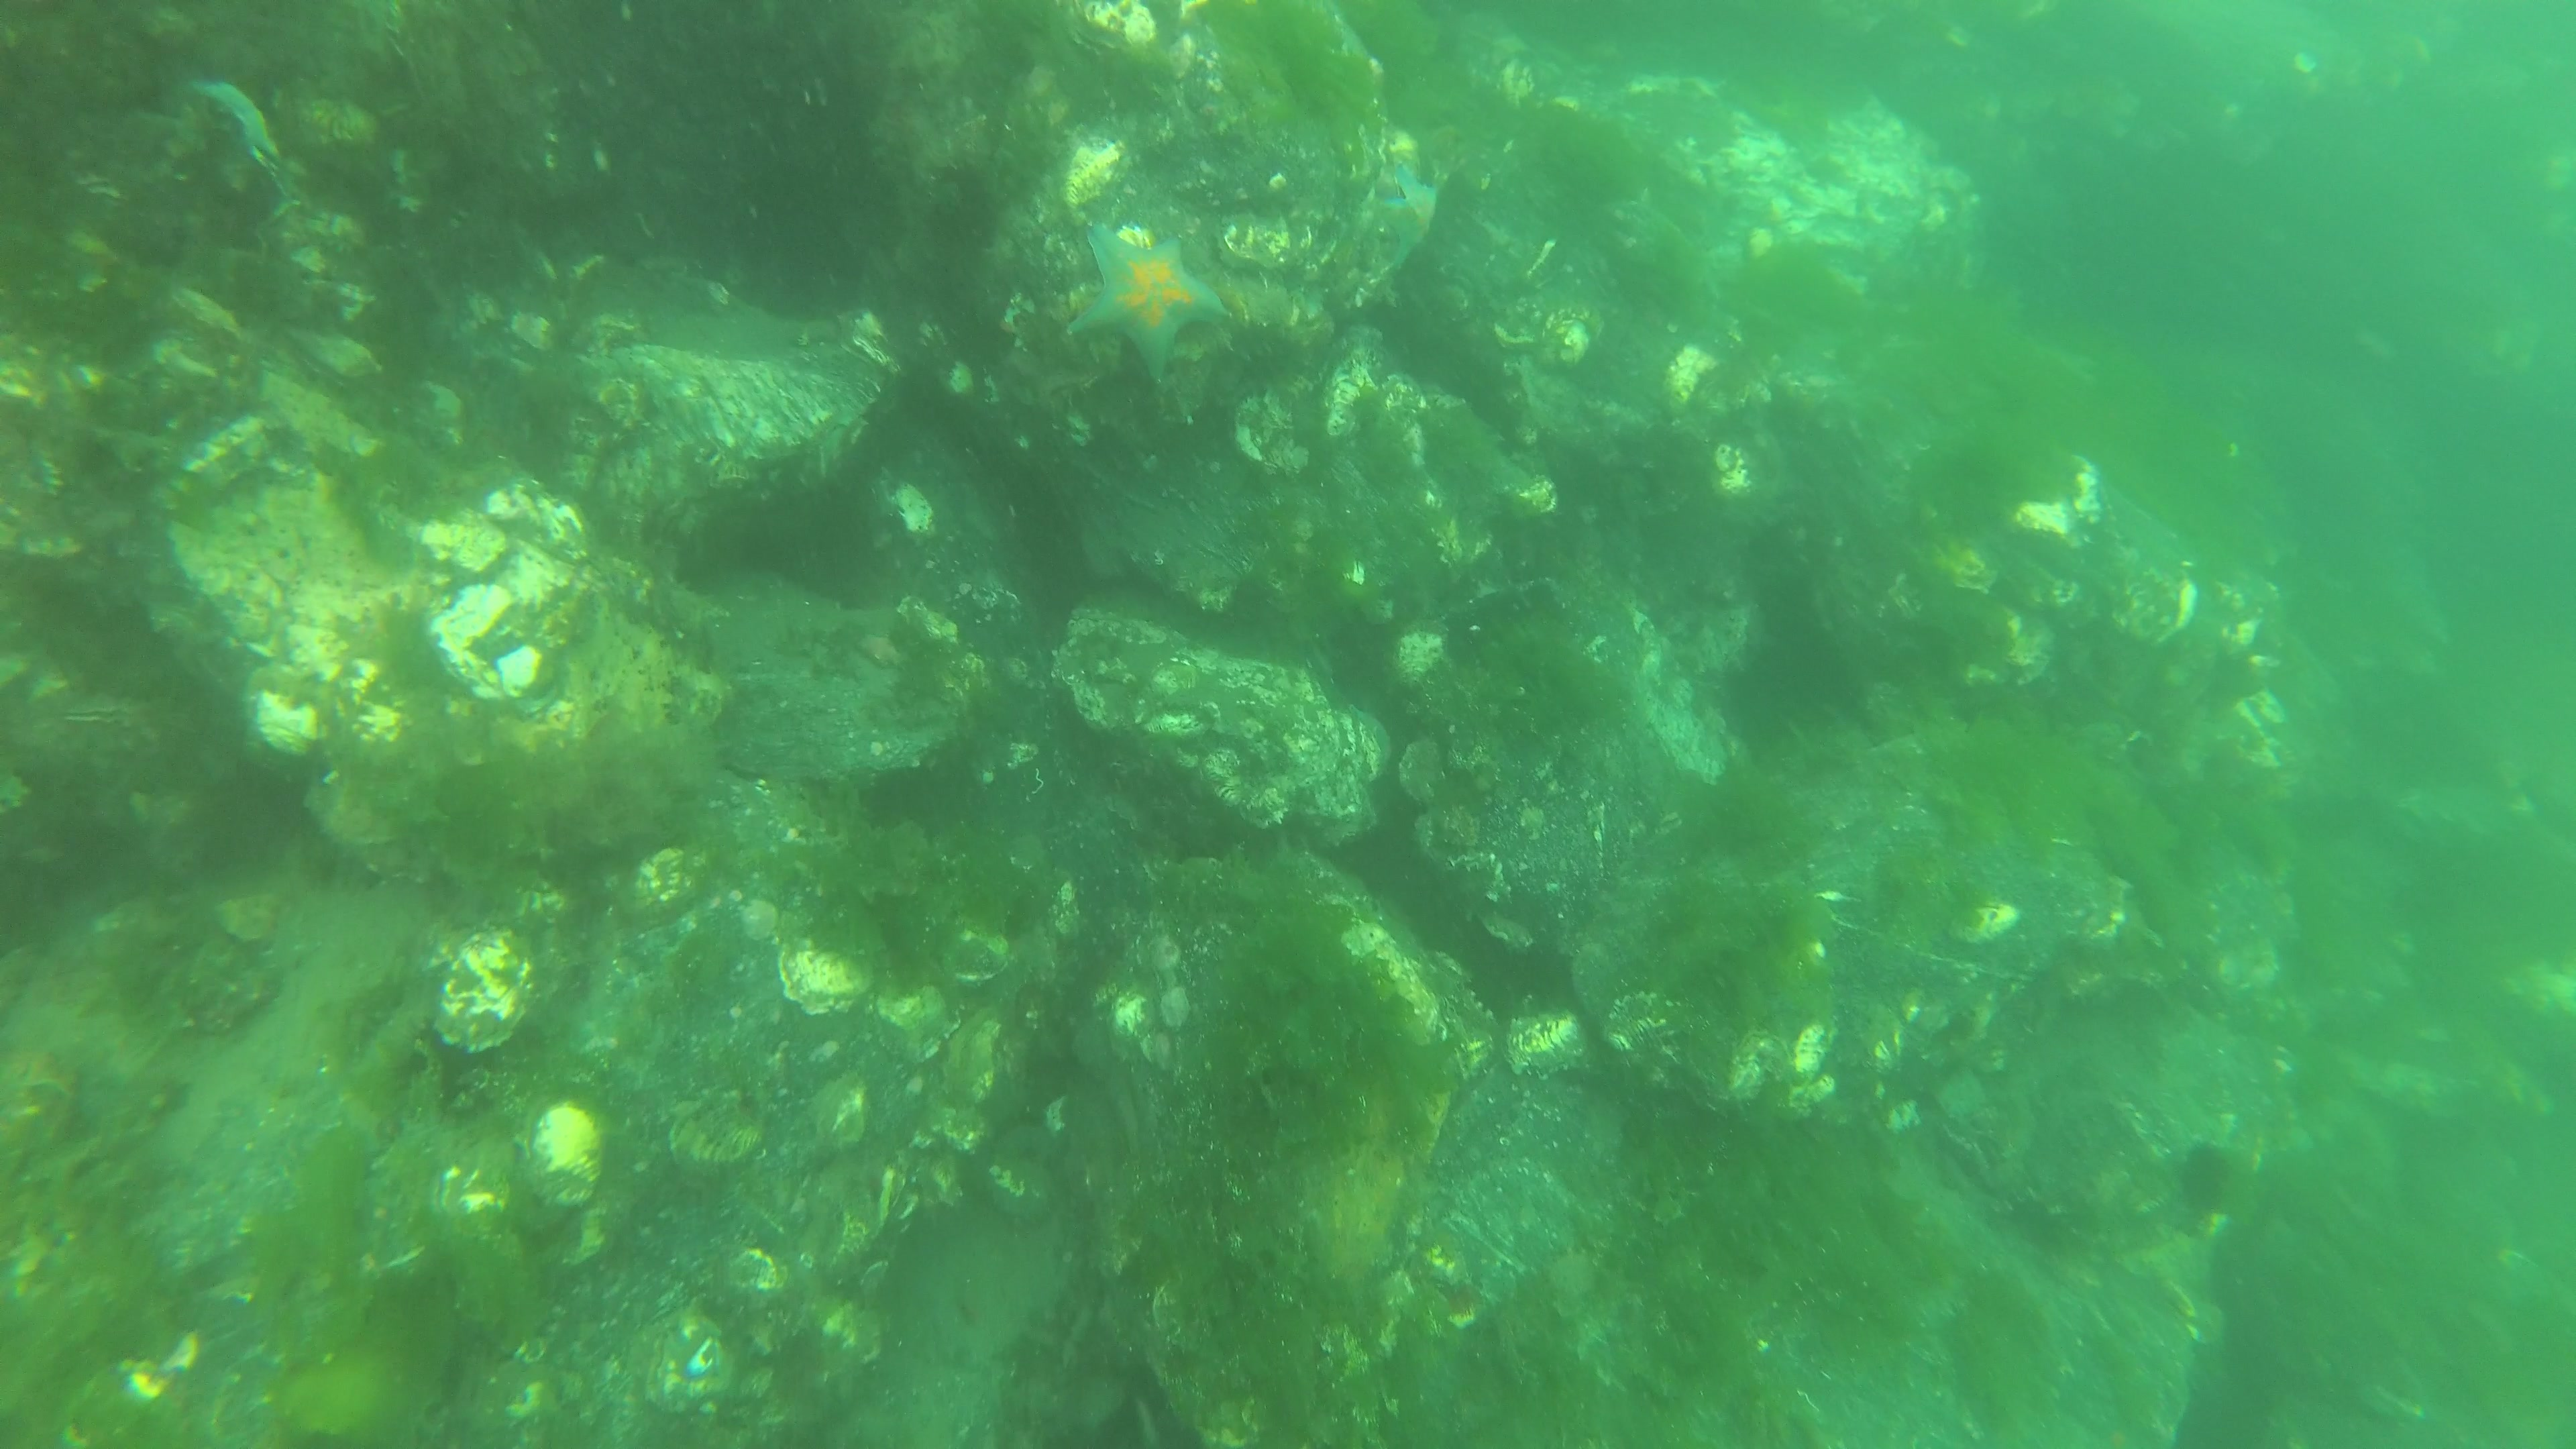echinus: (2176, 1136, 2238, 1226)
starfish: (1069, 219, 1233, 389), (186, 73, 294, 225), (1376, 165, 1438, 265)
